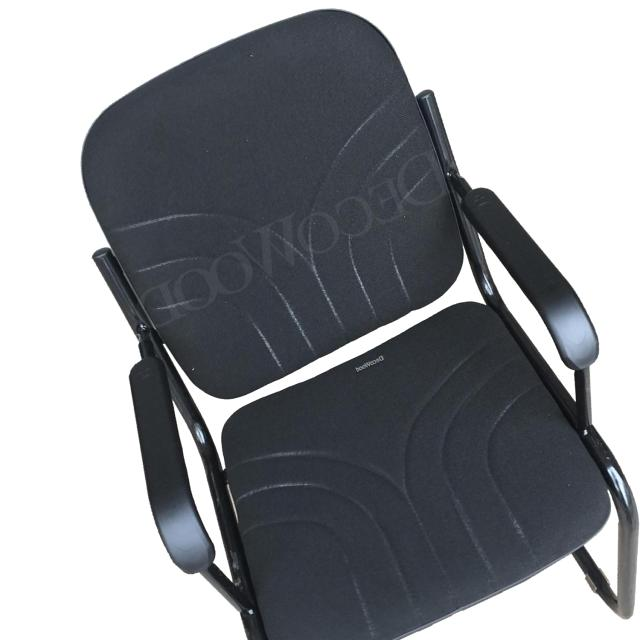Chair: (81, 6, 640, 640)
